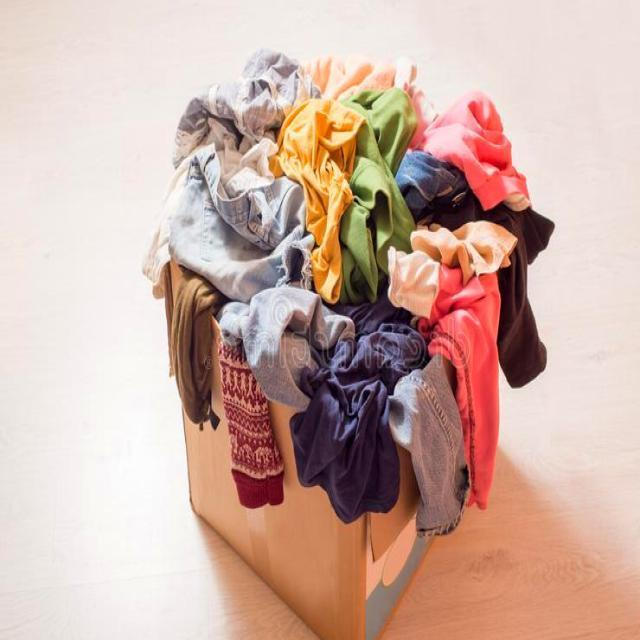clothes: (124, 84, 554, 599)
